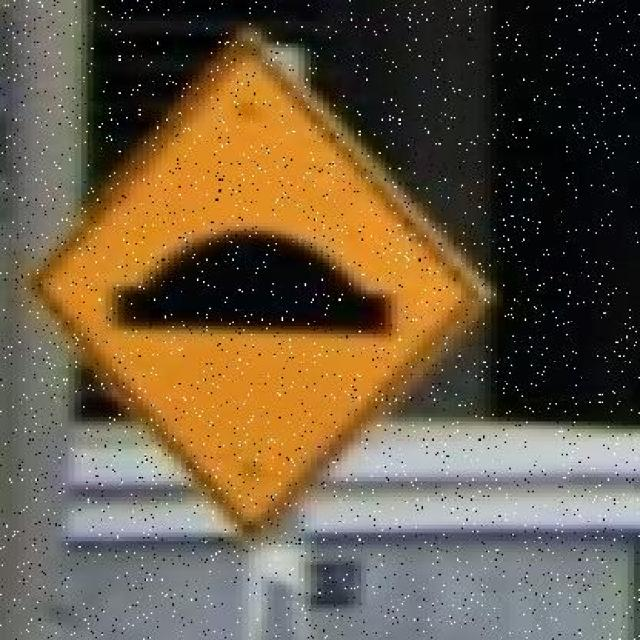Polisi Tidur: (32, 25, 502, 542)
